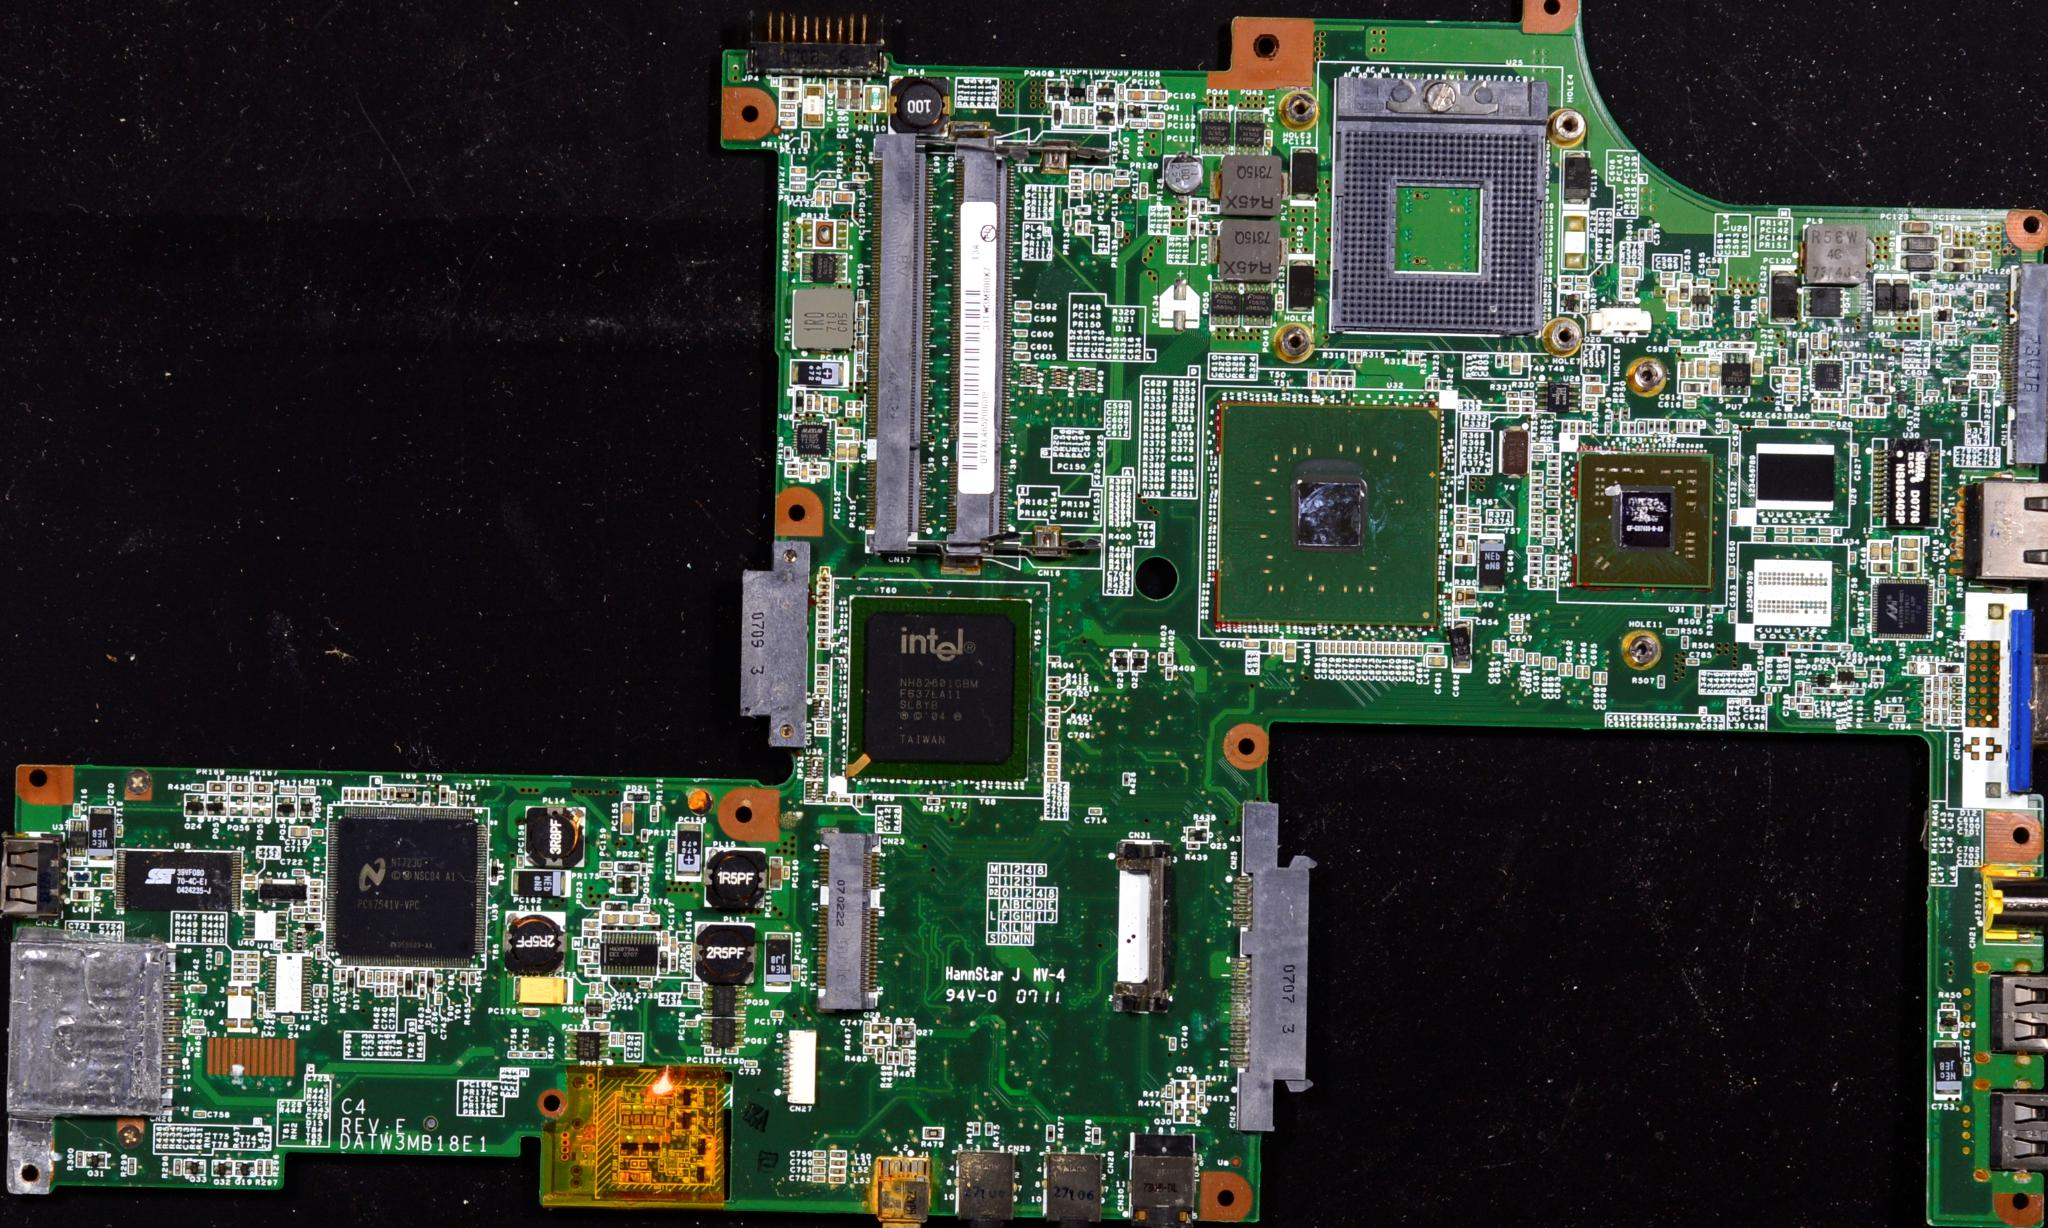Capacitor Jumper: (288, 823, 311, 839), (1146, 88, 1167, 101), (601, 909, 620, 922), (1975, 288, 1985, 310), (621, 911, 640, 922), (835, 193, 855, 203), (1921, 289, 1931, 310), (838, 440, 846, 462), (1668, 288, 1677, 308), (1013, 301, 1034, 310), (848, 441, 858, 459), (1780, 382, 1804, 389), (778, 118, 797, 127), (1759, 292, 1767, 311), (1014, 351, 1034, 360), (1512, 354, 1520, 373), (1680, 310, 1688, 327), (1127, 91, 1143, 99), (836, 427, 852, 436), (1095, 171, 1102, 190), (827, 77, 835, 95), (189, 984, 206, 991), (1105, 173, 1112, 190), (1975, 251, 1990, 260), (1014, 314, 1032, 322), (1696, 360, 1704, 374), (1428, 655, 1443, 664), (595, 1019, 611, 1026), (1621, 268, 1637, 275), (1870, 542, 1877, 558), (1286, 643, 1294, 659), (816, 189, 822, 208), (523, 1006, 538, 1013), (1244, 640, 1259, 648), (189, 1026, 206, 1032), (1820, 330, 1826, 348), (1783, 376, 1801, 382), (596, 982, 604, 996), (1014, 329, 1028, 336), (1013, 342, 1026, 349), (813, 396, 820, 409), (668, 838, 674, 854), (1710, 361, 1716, 377), (516, 852, 522, 867), (789, 167, 804, 173), (1678, 361, 1684, 376), (1916, 377, 1924, 389), (1814, 421, 1829, 427), (1731, 509, 1737, 523), (1512, 618, 1523, 626), (585, 920, 598, 925), (257, 991, 263, 1004), (281, 1016, 294, 1022), (813, 1165, 826, 1171), (1115, 178, 1129, 184), (801, 465, 807, 478), (1973, 260, 1998, 263), (830, 396, 835, 412), (1893, 715, 1905, 721), (1088, 807, 1099, 813), (190, 1017, 202, 1023), (864, 1020, 870, 1032), (813, 1158, 824, 1164), (1621, 278, 1633, 284), (1944, 325, 1956, 330), (1523, 354, 1529, 365), (1756, 420, 1767, 425), (1849, 551, 1855, 563), (1396, 642, 1402, 653), (1403, 642, 1409, 653), (814, 1172, 823, 1180), (1802, 696, 1813, 702), (1880, 705, 1886, 715), (1047, 769, 1057, 775), (1646, 230, 1652, 240), (1684, 393, 1694, 399), (1685, 401, 1696, 406), (1899, 405, 1905, 415), (1728, 567, 1734, 577), (1453, 607, 1459, 617), (1788, 642, 1798, 648), (1330, 642, 1336, 652), (1687, 656, 1697, 662), (785, 864, 789, 877), (376, 971, 380, 984), (398, 971, 402, 984), (591, 982, 595, 996), (1712, 379, 1716, 392), (1577, 665, 1582, 677), (1583, 667, 1589, 675), (370, 787, 374, 798), (1169, 1036, 1174, 1048), (1883, 339, 1895, 344), (1927, 390, 1938, 395), (1722, 421, 1728, 430), (1494, 639, 1498, 651), (1840, 645, 1852, 649), (1416, 643, 1421, 655), (1535, 652, 1539, 664), (1085, 174, 1088, 190), (1567, 664, 1571, 674), (1855, 671, 1865, 675), (1601, 672, 1605, 683), (1053, 727, 1057, 737), (1047, 776, 1057, 781), (1965, 1063, 1969, 1073), (1662, 272, 1672, 276), (1681, 273, 1691, 278), (1662, 279, 1672, 284), (1621, 294, 1631, 298), (1788, 421, 1798, 425), (1729, 610, 1734, 620), (1317, 642, 1321, 652), (1357, 642, 1361, 652), (1370, 642, 1374, 652), (1364, 642, 1368, 652), (1384, 643, 1389, 653), (1390, 643, 1395, 653), (1377, 643, 1381, 653), (1512, 649, 1516, 659), (1517, 649, 1522, 659), (1544, 656, 1548, 667), (1550, 658, 1554, 668), (336, 969, 339, 984), (1595, 672, 1599, 681), (1767, 693, 1772, 702), (1048, 763, 1057, 767), (1699, 279, 1707, 284), (1512, 627, 1520, 632), (1270, 642, 1275, 651), (1528, 653, 1532, 662), (383, 969, 386, 981), (259, 1004, 262, 1016), (746, 1061, 757, 1064), (1411, 643, 1414, 655), (1351, 643, 1355, 651), (1561, 664, 1564, 674), (1791, 697, 1794, 708), (1801, 712, 1811, 715), (1047, 757, 1057, 760), (814, 1151, 824, 1153), (1707, 269, 1718, 272), (1501, 640, 1504, 651), (1278, 640, 1281, 651), (1338, 642, 1340, 652), (1324, 642, 1327, 652), (1345, 642, 1348, 652)
Connector: (864, 129, 924, 556), (955, 137, 1006, 550), (814, 827, 870, 1010), (1117, 836, 1165, 1003)
IC: (846, 594, 1028, 779), (115, 844, 247, 915), (1862, 425, 1946, 534), (708, 842, 776, 918), (1870, 575, 1933, 636), (1615, 481, 1674, 547), (601, 924, 658, 972), (266, 950, 311, 1010), (558, 1028, 620, 1057), (1212, 279, 1243, 326), (1200, 107, 1229, 155), (798, 253, 843, 284), (1243, 281, 1269, 329), (1237, 110, 1264, 153), (86, 811, 113, 857), (794, 425, 830, 458), (1810, 361, 1842, 390), (1723, 349, 1745, 392), (708, 985, 741, 1012), (710, 1013, 735, 1047), (322, 982, 326, 997)
Resistor Jumper: (779, 88, 800, 101), (922, 1126, 941, 1139), (781, 77, 800, 86), (789, 173, 805, 183), (820, 178, 836, 187), (779, 110, 795, 117), (308, 886, 323, 893), (791, 183, 805, 190), (439, 784, 444, 801), (1047, 706, 1060, 713), (1092, 1127, 1099, 1140), (231, 950, 247, 956), (231, 972, 247, 978), (779, 102, 795, 108), (903, 1047, 909, 1063), (824, 190, 830, 206), (785, 469, 801, 475), (1047, 681, 1058, 689), (292, 912, 304, 920), (232, 963, 244, 971), (358, 969, 364, 984), (1197, 1079, 1203, 1094), (1047, 693, 1060, 699), (355, 785, 361, 798), (342, 787, 348, 800), (450, 791, 456, 804), (307, 877, 320, 883), (367, 969, 373, 982), (864, 1047, 877, 1053), (877, 1048, 883, 1061), (972, 1121, 978, 1134), (1047, 655, 1060, 661), (387, 785, 395, 795), (247, 952, 263, 956), (1167, 1080, 1171, 1096), (1048, 1123, 1053, 1139), (807, 393, 811, 409), (308, 898, 320, 903), (376, 984, 382, 996), (864, 1032, 870, 1044), (987, 1123, 993, 1134), (1944, 333, 1956, 339), (786, 462, 798, 468), (1666, 627, 1678, 633), (1045, 721, 1060, 725), (363, 785, 367, 800), (785, 446, 789, 460), (810, 469, 824, 474), (1047, 743, 1057, 748), (1047, 750, 1057, 756), (422, 791, 428, 801), (1355, 351, 1361, 361), (1349, 351, 1355, 361), (1495, 355, 1501, 365), (1425, 379, 1431, 389), (1522, 390, 1532, 396), (1469, 507, 1479, 513), (1469, 516, 1479, 522), (1158, 652, 1164, 662), (1167, 667, 1171, 680), (1047, 713, 1060, 718), (351, 785, 355, 798), (382, 787, 386, 800), (308, 892, 322, 896), (307, 912, 320, 917), (389, 968, 393, 981), (1199, 1094, 1203, 1107), (1167, 1101, 1171, 1114), (1683, 636, 1687, 649), (1871, 670, 1883, 674), (246, 966, 263, 969), (1083, 221, 1088, 232), (1621, 287, 1633, 291), (1504, 354, 1509, 365), (1509, 399, 1520, 403), (1709, 607, 1721, 611), (1659, 675, 1664, 686), (308, 905, 319, 909), (887, 1051, 892, 1061), (895, 1051, 899, 1061), (1639, 230, 1643, 240), (1414, 354, 1418, 364), (1522, 399, 1532, 403), (1801, 421, 1811, 425), (1456, 506, 1466, 510), (1456, 513, 1466, 518), (1456, 519, 1466, 523), (1456, 525, 1466, 529), (292, 905, 307, 908), (1873, 675, 1881, 680), (1048, 675, 1057, 680), (1433, 380, 1437, 389), (1509, 392, 1517, 396), (1509, 406, 1517, 411), (1167, 653, 1171, 662), (246, 962, 257, 965), (1408, 352, 1411, 364), (232, 959, 249, 960), (249, 959, 262, 960), (249, 975, 260, 977)
iC: (326, 813, 485, 963), (314, 981, 320, 994)
